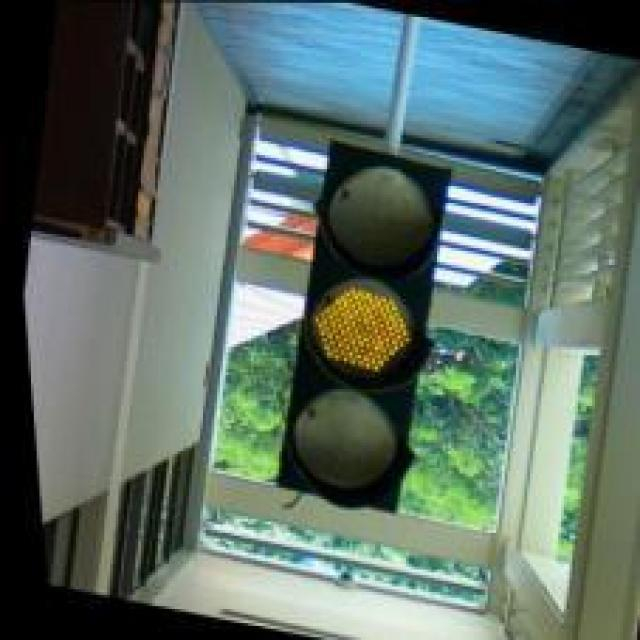yellow_light: (278, 141, 449, 511)
